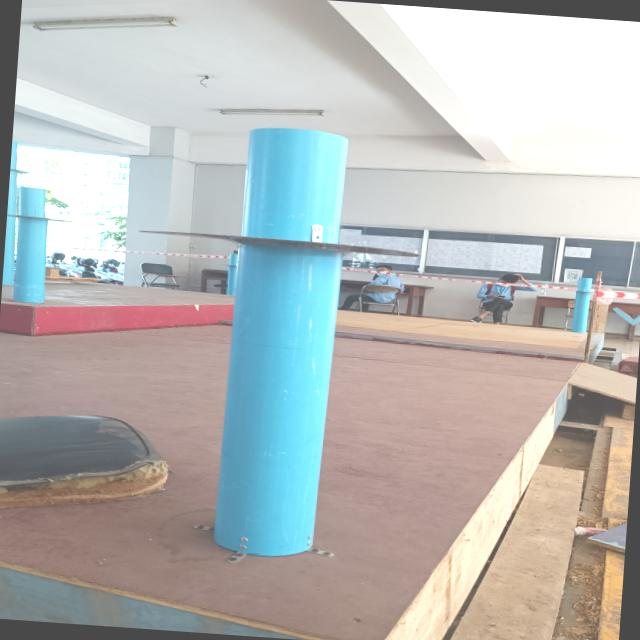pole: (118, 114, 460, 404)
